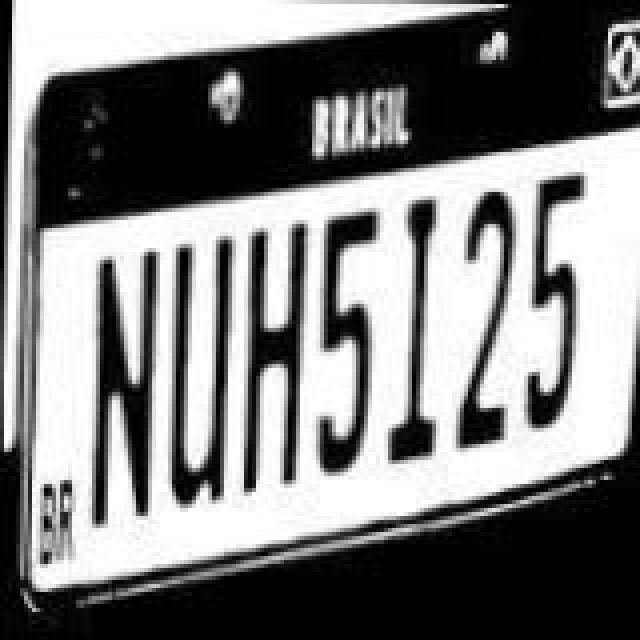2: (442, 176, 522, 464)
5: (308, 194, 384, 482), (518, 164, 590, 436)
H: (230, 210, 314, 502)
I: (376, 184, 452, 476)
N: (82, 242, 166, 554)
U: (154, 222, 238, 526)
